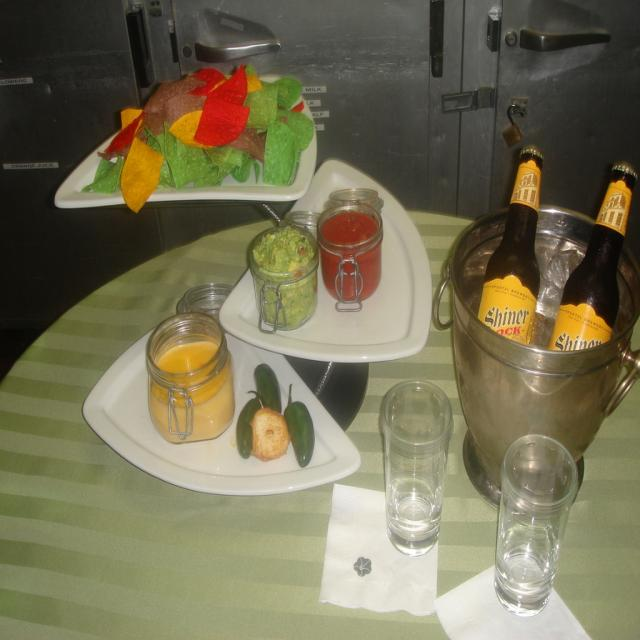Bottle: (545, 162, 639, 353), (478, 145, 544, 347)
